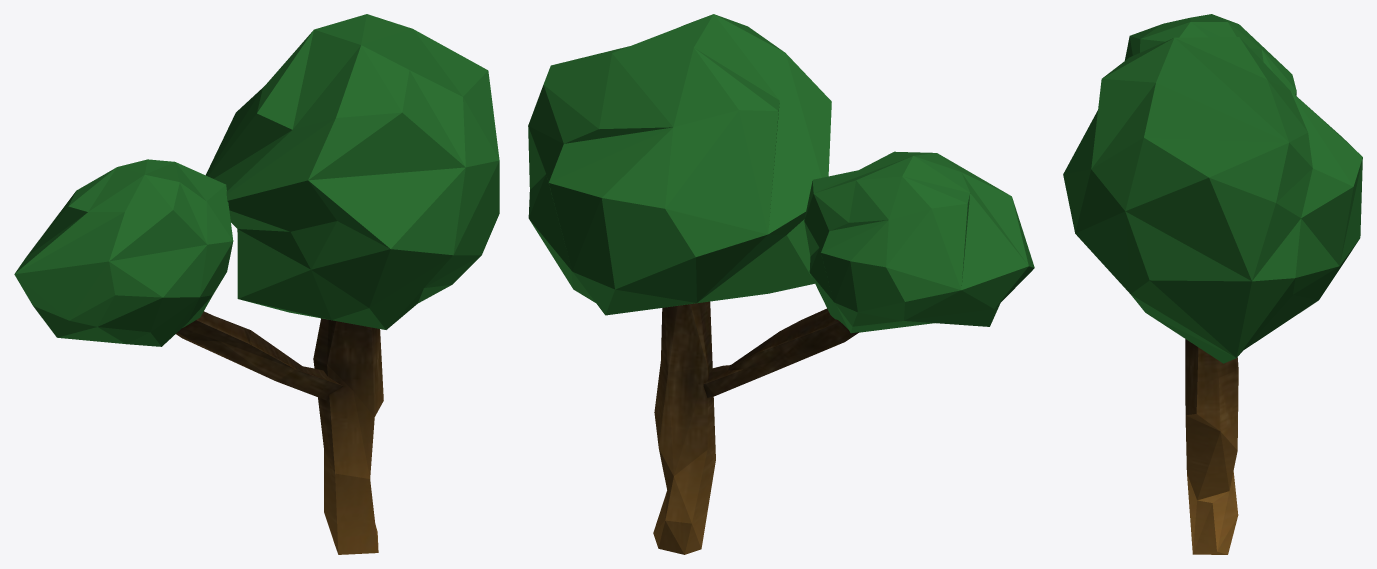
The model's file is Tree 02.fbx.
3 renders of one model, left to right at view 1: azimuth 30°, elevation 25°; view 2: azimuth 150°, elevation 25°; view 3: azimuth 270°, elevation 25°, orthographic. The views are drawn at different scales.
Parts seen in each view (by area): view 1: Tree 02; view 2: Tree 02; view 3: Tree 02.
Part boxes in pixels (left/top/right/bottom): Tree 02: left=14, top=14, right=499, bottom=554; Tree 02: left=528, top=14, right=1034, bottom=554; Tree 02: left=1063, top=14, right=1362, bottom=554.
Size of the model in its own units: 53.26 by 30.03 by 55.73.
Materials: 2 (2 with a texture image).
